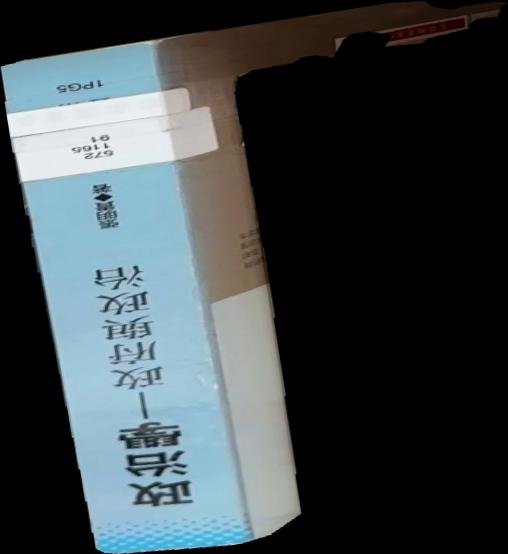reverse: (1, 1, 508, 554)
